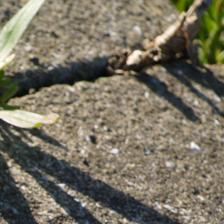Crack: (2, 22, 144, 84)
